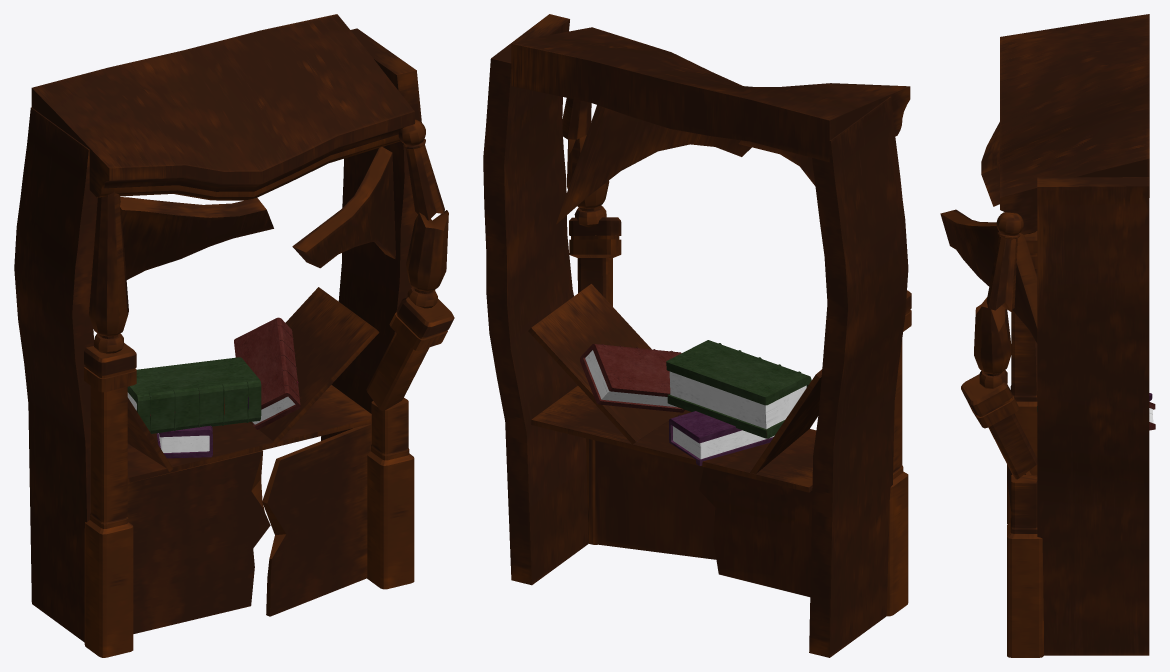
Rendered from SM_Book_Shelf_Broken_01.fbx.
3 renders of one model, left to right at view 1: azimuth 30°, elevation 25°; view 2: azimuth 150°, elevation 25°; view 3: azimuth 270°, elevation 25°, orthographic. The views are drawn at different scales.
Parts seen in each view (by area): view 1: SM_Book_Shelf_Broken_01; view 2: SM_Book_Shelf_Broken_01; view 3: SM_Book_Shelf_Broken_01.
Boxes of the visible parts, bbox=[...] form: SM_Book_Shelf_Broken_01: bbox=[14, 14, 454, 657]; SM_Book_Shelf_Broken_01: bbox=[483, 14, 911, 657]; SM_Book_Shelf_Broken_01: bbox=[940, 14, 1155, 657].
Size of the model in its own units: 250 by 350 by 137.
